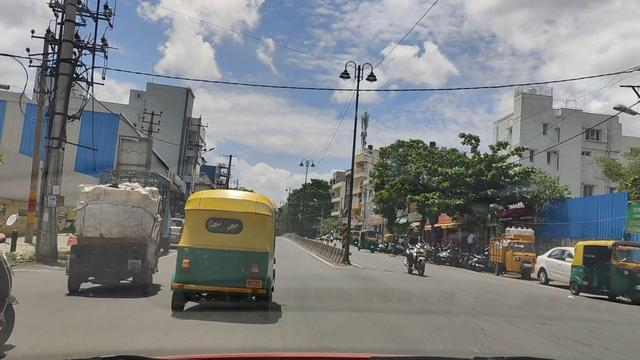LMV: (182, 189, 277, 313), (73, 178, 163, 300)
